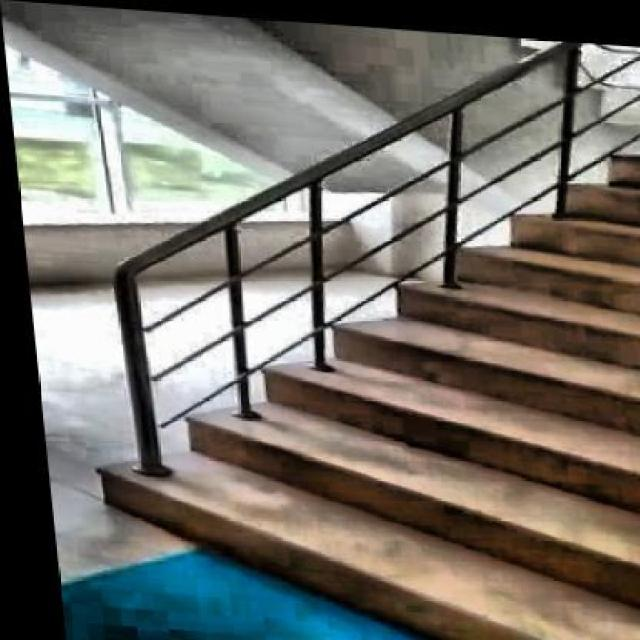stair: (23, 27, 639, 638)
